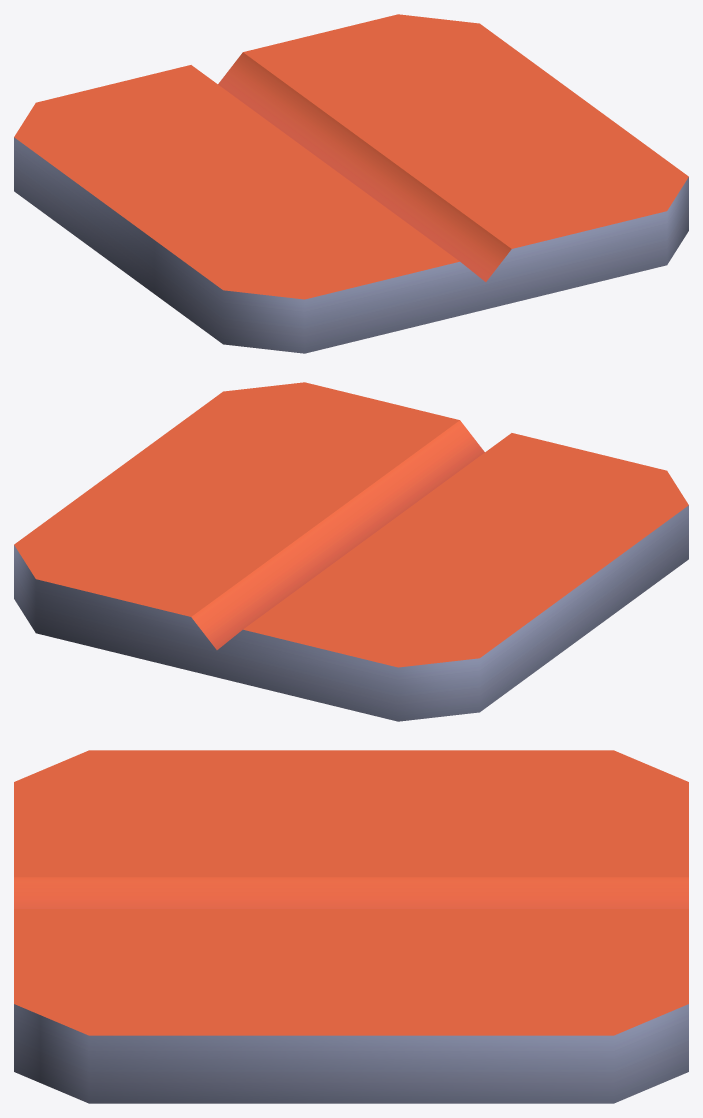
File: debris-plate-a.glb
3 views of the same model, one above another, from view 1: azimuth 30°, elevation 25°; view 2: azimuth 150°, elevation 25°; view 3: azimuth 270°, elevation 25° (orthographic). The views are drawn at different scales.
Parts seen in each view (by area): view 1: debris-plate-a; view 2: debris-plate-a; view 3: debris-plate-a.
Boxes of the visible parts, x1,y1,x2,y2 form: debris-plate-a: (14, 14, 688, 353); debris-plate-a: (14, 382, 688, 721); debris-plate-a: (14, 750, 688, 1103).
Size of the model in its own units: 0.9 by 0.1 by 0.9.
1 material, 1 textured.
